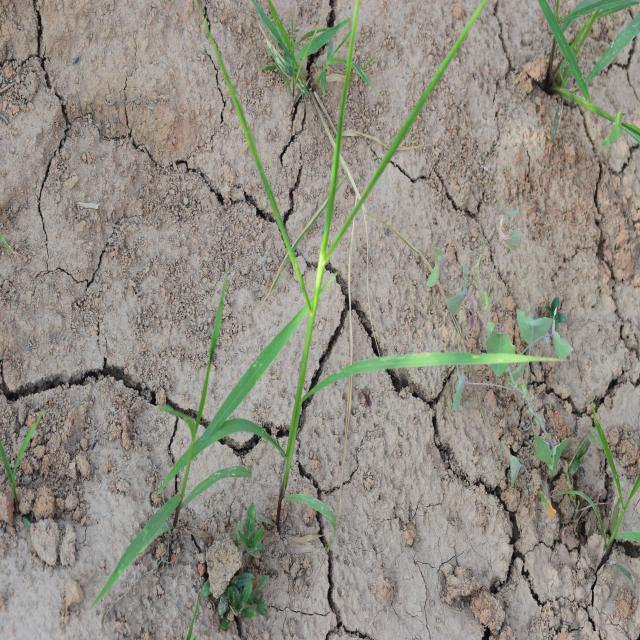green_foxtail: (229, 39, 460, 504), (123, 308, 275, 535)
